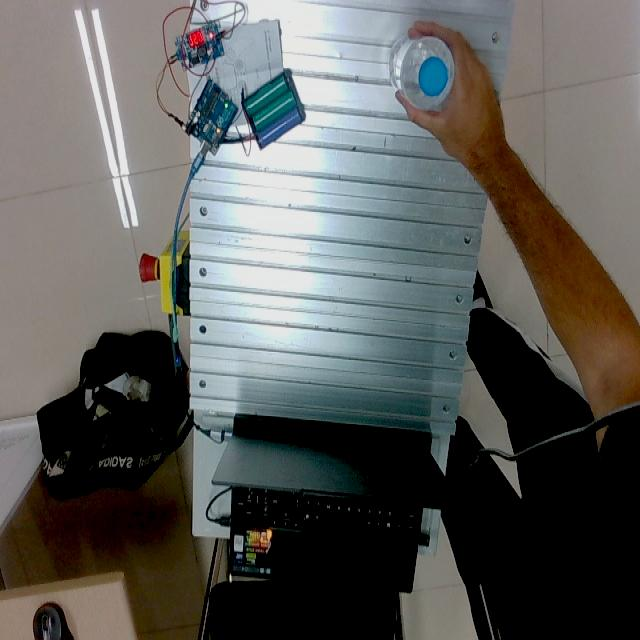lavie: (389, 32, 455, 113)
